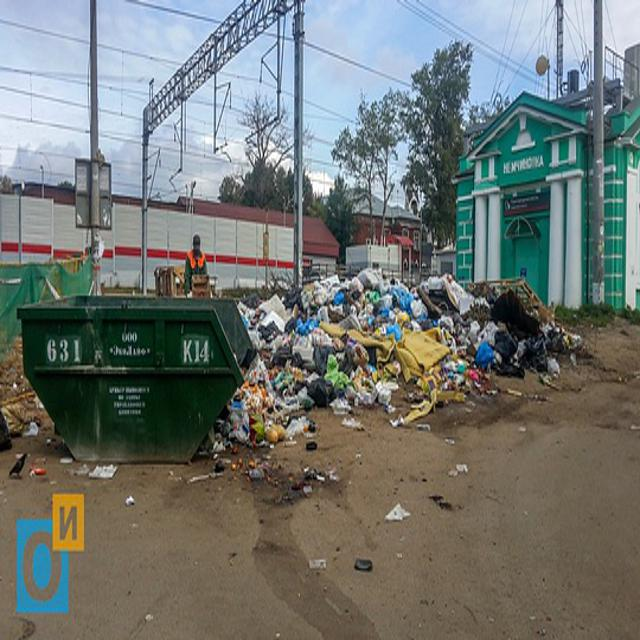lixeira: (206, 267, 584, 444)
